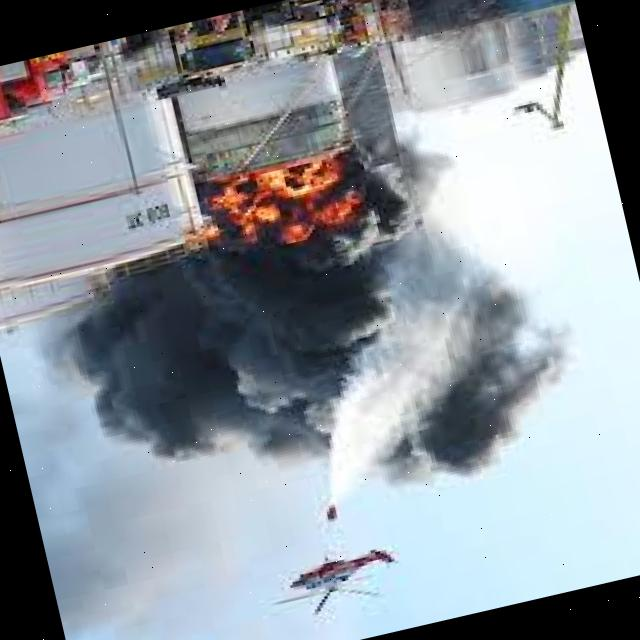explosion: (7, 43, 623, 570)
